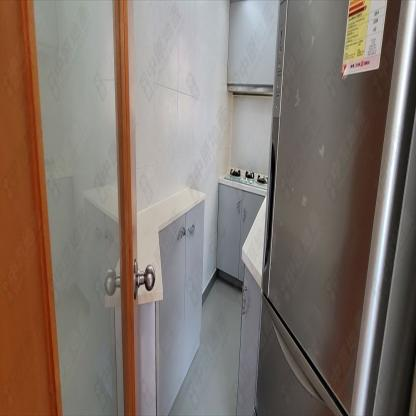Cupboard: (158, 200, 205, 415), (216, 183, 266, 280)
Exhaust Hood: (227, 84, 274, 97)
Fridge: (255, 0, 416, 414)
Stove: (224, 165, 268, 190)
